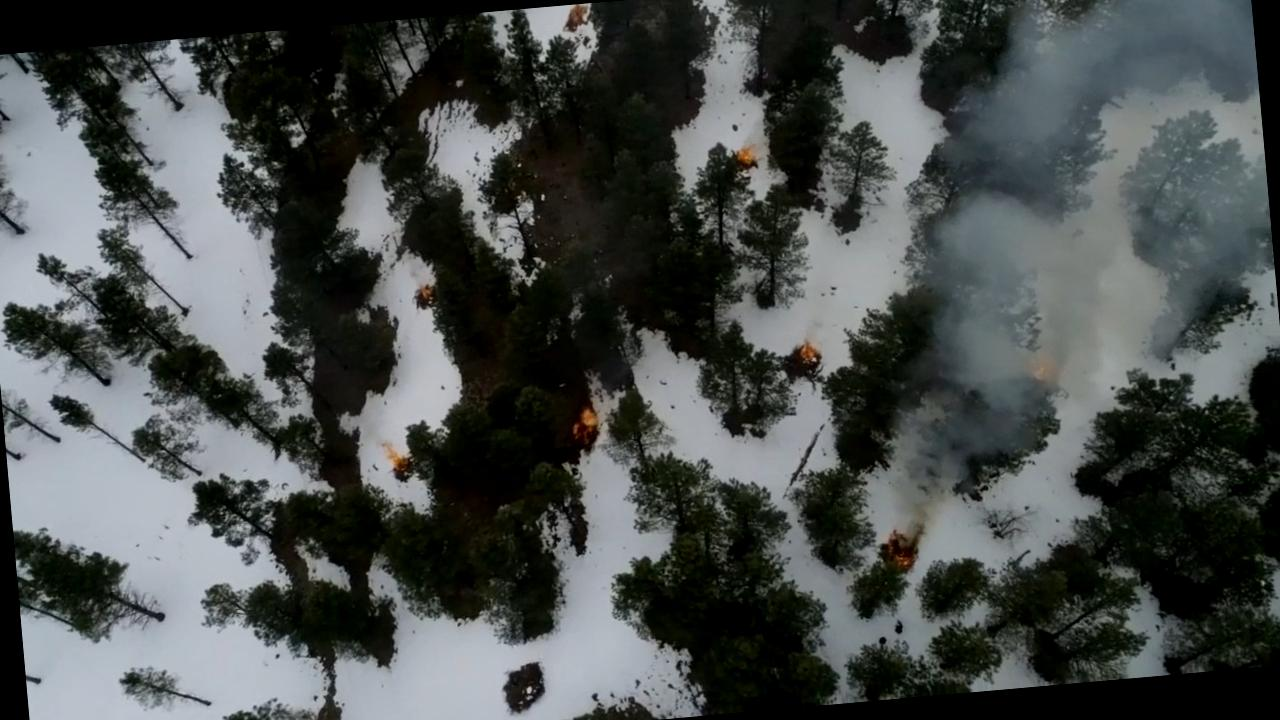fire: (565, 402, 609, 458), (879, 528, 930, 572), (791, 337, 825, 374), (729, 139, 760, 173)
smoke: (903, 180, 1280, 447), (929, 0, 1267, 208)
